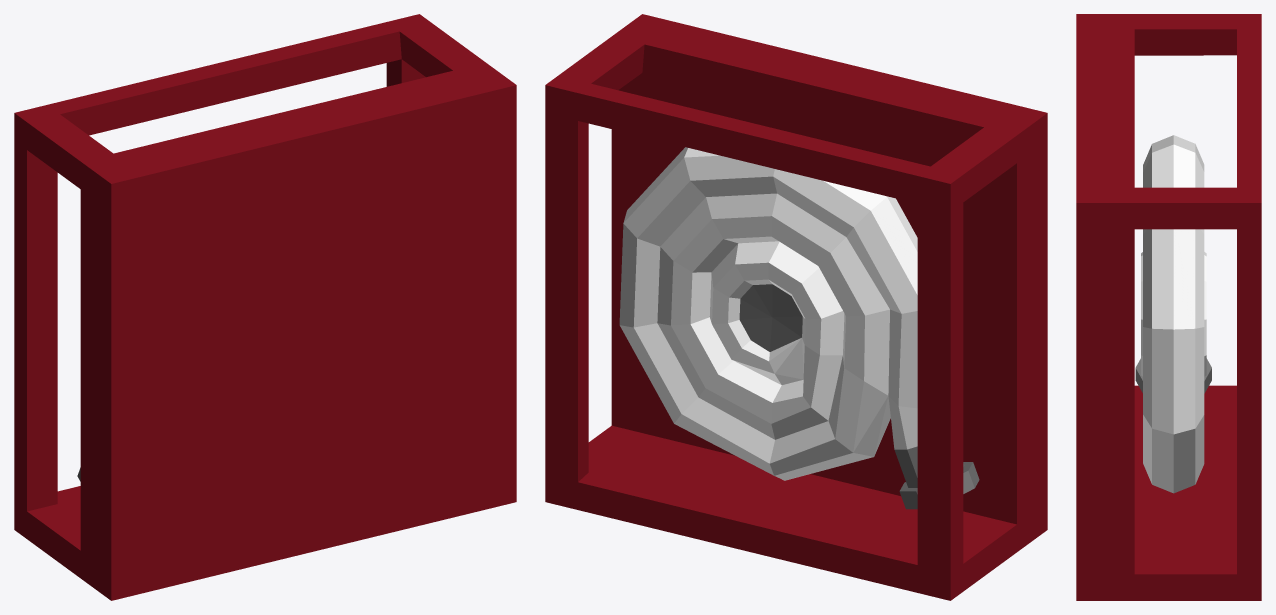
Rendered from mesh_fireHose.fbx.
3 renders of one model, left to right at view 1: azimuth 30°, elevation 25°; view 2: azimuth 150°, elevation 25°; view 3: azimuth 270°, elevation 25°, orthographic. The views are drawn at different scales.
Parts seen in each view (by area): view 1: mesh_firehose_01; view 2: mesh_firehose_01; view 3: mesh_firehose_01.
Boxes of the visible parts, <box> form: mesh_firehose_01: <box>14,14,516,600</box>; mesh_firehose_01: <box>545,14,1047,600</box>; mesh_firehose_01: <box>1076,14,1261,600</box>.
Bounding box in the file's own units: 18.96 × 18.64 × 7.87.
